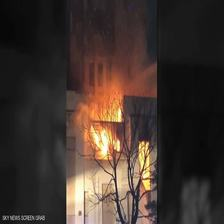fire: (70, 80, 133, 160)
